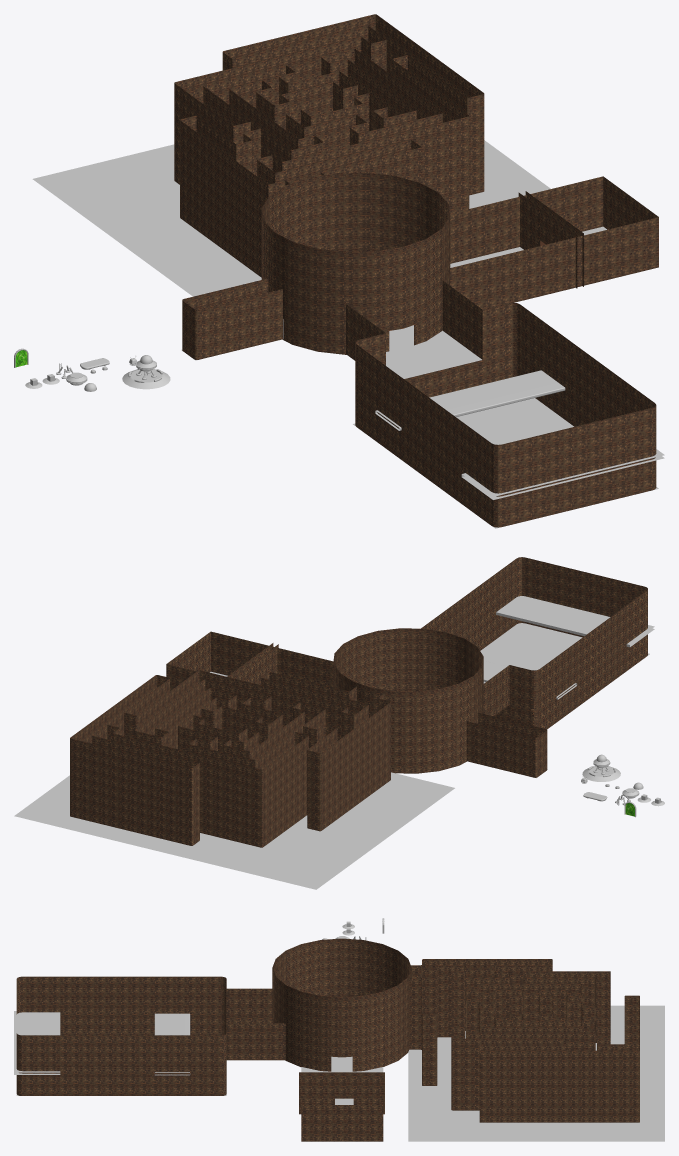
Rendered from Environmant.fbx.
The picture shows the model from 3 angles, top to bottom: view 1: azimuth 30°, elevation 25°; view 2: azimuth 150°, elevation 25°; view 3: azimuth 270°, elevation 25°; orthographic projection. The views are drawn at different scales.
Visible parts, largest first — view 1: Muro1, Pavimento3; view 2: Muro1, Pavimento3; view 3: Muro1, Pavimento3.
Boxes of the visible parts, x1=… form: Muro1: x1=174, y1=14, x2=658, y2=527; Pavimento3: x1=32, y1=140, x2=664, y2=528; Muro1: x1=70, y1=557, x2=647, y2=847; Pavimento3: x1=14, y1=596, x2=654, y2=889; Muro1: x1=16, y1=938, x2=639, y2=1141; Pavimento3: x1=14, y1=1005, x2=664, y2=1141.
Size of the model in its own units: 268 by 57.36 by 343.
